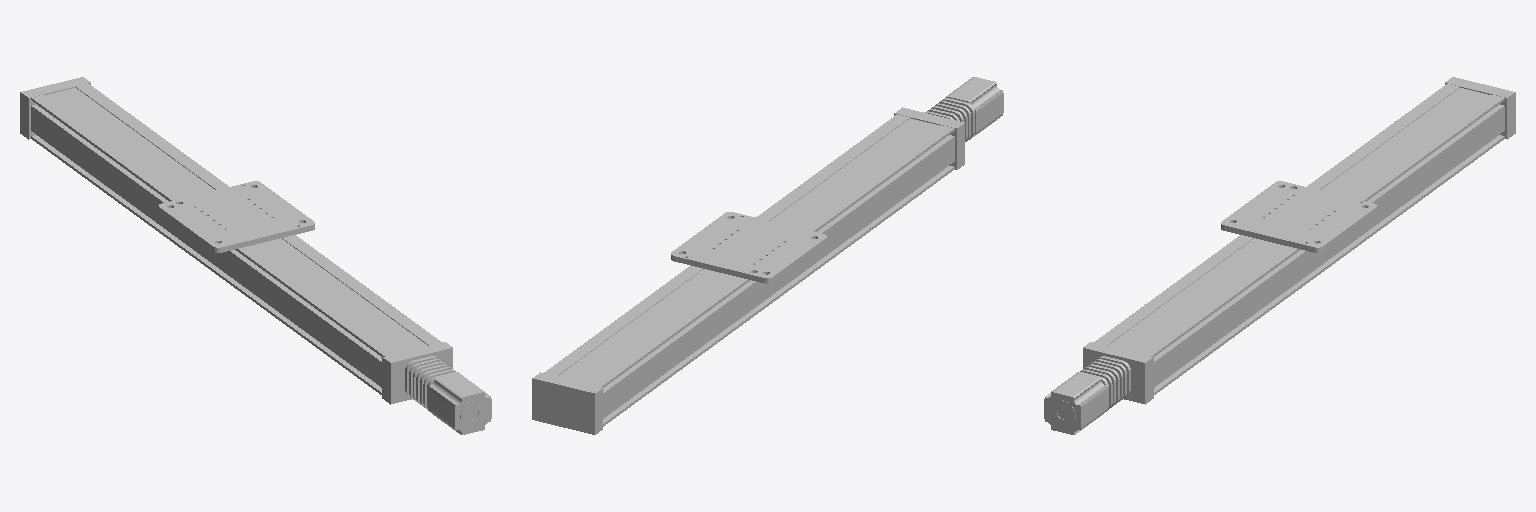
robot.urdf — motoman_gp8:
<?xml version="1.0" ?>
<!-- =================================================================================== -->
<!-- |    This document was autogenerated by xacro from gp8_gazebo.xacro               | -->
<!-- |    EDITING THIS FILE BY HAND IS NOT RECOMMENDED                                 | -->
<!-- =================================================================================== -->
<robot name="motoman_gp8">
  <!-- link list -->
  <link name="base_rail">
    <visual>
      <geometry>
        <mesh filename="package://motoman_gp8_support/meshes/visual/slider_barra v1.stl" scale="0.1 0.1 0.1"/>
      </geometry>
      <origin rpy="0 0 0" xyz="0 0 0"/>
      <material name="">
        <color rgba="0.8 0.8 0.8 1"/>
      </material>
    </visual>
    <collision>
      <geometry>
        <mesh filename="package://motoman_gp8_support/meshes/collision/slider_barra v1.stl" scale="0.1 0.1 0.1"/>
      </geometry>
      <origin rpy="0 0 0" xyz="0 0 0"/>
    </collision>
    <inertial>
      <mass value="81.012"/>
      <inertia ixx="12.087" ixy="0.0" ixz="0.0" iyy="0.11" iyz="0.002" izz="12.125"/>
    </inertial>
  </link>
  <link name="base_plate">
    <visual>
      <geometry>
        <mesh filename="package://motoman_gp8_support/meshes/visual/slider_base v1.stl" scale="0.1 0.1 0.1"/>
      </geometry>
      <origin rpy="0 0 0" xyz="0 0 0"/>
      <material name="">
        <color rgba="0.8 0.8 0.8 1"/>
      </material>
    </visual>
    <collision>
      <geometry>
        <mesh filename="package://motoman_gp8_support/meshes/collision/slider_base v1.stl" scale="0.1 0.1 0.1"/>
      </geometry>
      <origin rpy="0 0 0" xyz="0 0 0"/>
    </collision>
    <inertial>
      <mass value="4.362"/>
      <inertia ixx="0.012" ixy="0.0" ixz="0.0" iyy="0.011" iyz="0.0" izz="0.023"/>
    </inertial>
  </link>
  <link name="base_link">
    <visual>
      <geometry>
        <mesh filename="package://motoman_gp8_support/meshes/visual/gp8_base_link.stl"/>
      </geometry>
      <material name="">
        <color rgba="0.5490196078431373 0.09019607843137255 0.10196078431372549 1.0"/>
      </material>
    </visual>
    <collision>
      <geometry>
        <mesh filename="package://motoman_gp8_support/meshes/collision/gp8_base_link.stl"/>
      </geometry>
    </collision>
    <inertial>
      <mass value="10.871"/>
      <inertia ixx="0.0587" ixy="0.0" ixz="0.0" iyy="0.0587" iyz="0.0" izz="0.0587"/>
    </inertial>
  </link>
  <link name="link_1_s">
    <visual>
      <geometry>
        <mesh filename="package://motoman_gp8_support/meshes/visual/gp8_link_1_s.stl"/>
      </geometry>
      <material name="">
        <color rgba="0.8 0.8 0.8 1"/>
      </material>
    </visual>
    <collision>
      <geometry>
        <mesh filename="package://motoman_gp8_support/meshes/collision/gp8_link_1_s.stl"/>
      </geometry>
    </collision>
    <inertial>
      <mass value="4.594"/>
      <inertia ixx="0.016" ixy="0.0" ixz="0.003" iyy="0.02" iyz="0.0" izz="0.02"/>
    </inertial>
  </link>
  <link name="link_2_l">
    <visual>
      <geometry>
        <mesh filename="package://motoman_gp8_support/meshes/visual/gp8_link_2_l.stl"/>
      </geometry>
      <material name="">
        <color rgba="0.5490196078431373 0.09019607843137255 0.10196078431372549 1.0"/>
      </material>
    </visual>
    <collision>
      <geometry>
        <mesh filename="package://motoman_gp8_support/meshes/collision/gp8_link_2_l.stl"/>
      </geometry>
    </collision>
    <inertial>
      <mass value="9.979"/>
      <inertia ixx="0.168" ixy="0.001" ixz="0.002" iyy="0.117" iyz="0.002" izz="0.117"/>
    </inertial>
  </link>
  <link name="link_3_u">
    <visual>
      <geometry>
        <mesh filename="package://motoman_gp8_support/meshes/visual/gp8_link_3_u.stl"/>
      </geometry>
      <material name="">
        <color rgba="0.8 0.8 0.8 1"/>
      </material>
    </visual>
    <collision>
      <geometry>
        <mesh filename="package://motoman_gp8_support/meshes/collision/gp8_link_3_u.stl"/>
      </geometry>
    </collision>
    <inertial>
      <mass value="4.862"/>
      <inertia ixx="0.014" ixy="0.0" ixz="0.001" iyy="0.017" iyz="0.0" izz="0.015"/>
    </inertial>
  </link>
  <link name="link_4_r">
    <visual>
      <geometry>
        <mesh filename="package://motoman_gp8_support/meshes/visual/gp8_link_4_r.stl"/>
      </geometry>
      <material name="">
        <color rgba="0.5490196078431373 0.09019607843137255 0.10196078431372549 1.0"/>
      </material>
    </visual>
    <collision>
      <geometry>
        <mesh filename="package://motoman_gp8_support/meshes/collision/gp8_link_4_r.stl"/>
      </geometry>
    </collision>
    <inertial>
      <mass value="3.891"/>
      <inertia ixx="0.006" ixy="0.0" ixz="0.0" iyy="0.023" iyz="0.0" izz="0.024"/>
    </inertial>
  </link>
  <link name="link_5_b">
    <visual>
      <geometry>
        <mesh filename="package://motoman_gp8_support/meshes/visual/gp8_link_5_b.stl"/>
      </geometry>
      <material name="">
        <color rgba="0.8 0.8 0.8 1"/>
      </material>
    </visual>
    <collision>
      <geometry>
        <mesh filename="package://motoman_gp8_support/meshes/collision/gp8_link_5_b.stl"/>
      </geometry>
    </collision>
    <inertial>
      <mass value="0.747"/>
      <inertia ixx="0.0000001" ixy="0.0" ixz="0.0" iyy="0.001" iyz="0.0" izz="0.001"/>
    </inertial>
  </link>
  <link name="link_6_t">
    <visual>
      <geometry>
        <mesh filename="package://motoman_gp8_support/meshes/visual/gp8_link_6_t.stl"/>
      </geometry>
      <material name="">
        <color rgba="0.5490196078431373 0.09019607843137255 0.10196078431372549 1.0"/>
      </material>
    </visual>
    <collision>
      <geometry>
        <mesh filename="package://motoman_gp8_support/meshes/collision/gp8_link_6_t.stl"/>
      </geometry>
    </collision>
    <inertial>
      <mass value="0.03"/>
      <inertia ixx="0.0001" ixy="0.0" ixz="0.0" iyy="0.0000066" iyz="0.0" izz="0.0000065"/>
    </inertial>
  </link>
  <!-- Used for fixing robot to Gazebo 'base_rail' -->
  <!-- <link name="world"/> -->
  <link name="world">
    <inertial>
      <mass value="0.0000001"/>
      <origin rpy="0 0 0" xyz="0.0 0.0 0.0"/>
      <inertia ixx="0.0000001" ixy="0.0" ixz="0.0" iyy="0.0000001" iyz="0.0" izz="0.0000001"/>
    </inertial>
  </link>
  <joint name="fixed" type="fixed">
    <parent link="world"/>
    <child link="base_rail"/>
  </joint>
  <!-- end of link list -->
  <!-- joint list -->
  <joint name="joint_0_s" type="prismatic">
    <parent link="base_rail"/>
    <child link="base_plate"/>
    <origin rpy="0 0 0" xyz="0 0 0.086"/>
    <axis xyz="0 1 0"/>
    <limit effort="150.92" lower="-0.5" upper="0.5" velocity="0.01"/>
    <dynamics damping="50" friction="1"/>
  </joint>
  <joint name="joint_01_s" type="fixed">
    <parent link="base_plate"/>
    <child link="base_link"/>
    <origin rpy="0 0 0" xyz="0 0 0"/>
  </joint>
  <joint name="joint_1_s" type="revolute">
    <parent link="base_link"/>
    <child link="link_1_s"/>
    <origin rpy="0 0 0" xyz="0 0 0.330"/>
    <axis xyz="0 0 1"/>
    <limit effort="150.92" lower="-2.9670" upper="2.9670" velocity="7.9412"/>
    <dynamics damping="50" friction="1"/>
  </joint>
  <joint name="joint_2_l" type="revolute">
    <parent link="link_1_s"/>
    <child link="link_2_l"/>
    <origin rpy="0 0 0" xyz="0.040 0 0"/>
    <axis xyz="0 1 0"/>
    <limit effort="176.4" lower="-1.1344" upper="2.5307" velocity="6.7495"/>
    <dynamics damping="50" friction="1"/>
  </joint>
  <joint name="joint_3_u" type="revolute">
    <parent link="link_2_l"/>
    <child link="link_3_u"/>
    <origin rpy="0 0 0" xyz="0 0 0.345"/>
    <axis xyz="0 -1 0"/>
    <limit effort="107.56" lower="-1.2217" upper="3.3161" velocity="9.0757"/>
    <dynamics damping="50" friction="1"/>
  </joint>
  <joint name="joint_4_r" type="revolute">
    <parent link="link_3_u"/>
    <child link="link_4_r"/>
    <origin rpy="0 0 0" xyz="0.340 0 0.040"/>
    <axis xyz="-1 0 0"/>
    <limit effort="55.86" lower="-3.3161" upper="3.3161" velocity="9.5993"/>
    <dynamics damping="50" friction="1"/>
  </joint>
  <joint name="joint_5_b" type="revolute">
    <parent link="link_4_r"/>
    <child link="link_5_b"/>
    <origin rpy="0 0 0" xyz="0 0 0"/>
    <axis xyz="0 -1 0"/>
    <limit effort="32.68" lower="-2.3561" upper="2.3561" velocity="9.5993"/>
    <dynamics damping="50" friction="1"/>
  </joint>
  <joint name="joint_6_t" type="revolute">
    <parent link="link_5_b"/>
    <child link="link_6_t"/>
    <origin rpy="0 0 0" xyz="0 0 0"/>
    <axis xyz="-1 0 0"/>
    <limit effort="22.54" lower="-6.2944" upper="6.2944" velocity="17.4845"/>
    <dynamics damping="50" friction="1"/>
  </joint>
  <!-- end of joint list -->
  
  <transmission name="transmission_h">
    <type>transmission_interface/SimpleTransmission</type>
    <joint name="joint_0_s">
      <hardwareInterface>hardware_interface/EffortJointInterface</hardwareInterface>
    </joint>
    <actuator name="motor_h">
      <hardwareInterface>hardware_interface/EffortJointInterface</hardwareInterface>
      <mechanicalReduction>100</mechanicalReduction>
    </actuator>
  </transmission>
  <transmission name="transmission_s">
    <type>transmission_interface/SimpleTransmission</type>
    <joint name="joint_1_s">
      <hardwareInterface>hardware_interface/EffortJointInterface</hardwareInterface>
    </joint>
    <actuator name="motor_s">
      <hardwareInterface>hardware_interface/EffortJointInterface</hardwareInterface>
      <mechanicalReduction>300</mechanicalReduction>
    </actuator>
  </transmission>
  <transmission name="transmission_l">
    <type>transmission_interface/SimpleTransmission</type>
    <joint name="joint_2_l">
      <hardwareInterface>hardware_interface/EffortJointInterface</hardwareInterface>
    </joint>
    <actuator name="motor_l">
      <hardwareInterface>hardware_interface/EffortJointInterface</hardwareInterface>
      <mechanicalReduction>300</mechanicalReduction>
    </actuator>
  </transmission>
  <transmission name="transmission_u">
    <type>transmission_interface/SimpleTransmission</type>
    <joint name="joint_3_u">
      <hardwareInterface>hardware_interface/EffortJointInterface</hardwareInterface>
    </joint>
    <actuator name="motor_u">
      <hardwareInterface>hardware_interface/EffortJointInterface</hardwareInterface>
      <mechanicalReduction>50</mechanicalReduction>
    </actuator>
  </transmission>
  <transmission name="transmission_r">
    <type>transmission_interface/SimpleTransmission</type>
    <joint name="joint_4_r">
      <hardwareInterface>hardware_interface/EffortJointInterface</hardwareInterface>
    </joint>
    <actuator name="motor_r">
      <hardwareInterface>hardware_interface/EffortJointInterface</hardwareInterface>
      <mechanicalReduction>30</mechanicalReduction>
    </actuator>
  </transmission>
  <transmission name="transmission_b">
    <type>transmission_interface/SimpleTransmission</type>
    <joint name="joint_5_b">
      <hardwareInterface>hardware_interface/EffortJointInterface</hardwareInterface>
    </joint>
    <actuator name="motor_b">
      <hardwareInterface>hardware_interface/EffortJointInterface</hardwareInterface>
      <mechanicalReduction>30</mechanicalReduction>
    </actuator>
  </transmission>
  <transmission name="transmission_t">
    <type>transmission_interface/SimpleTransmission</type>
    <joint name="joint_6_t">
      <hardwareInterface>hardware_interface/EffortJointInterface</hardwareInterface>
    </joint>
    <actuator name="motor_t">
      <hardwareInterface>hardware_interface/EffortJointInterface</hardwareInterface>
      <mechanicalReduction>10</mechanicalReduction>
    </actuator>
  </transmission>
  <gazebo reference="base_rail">
    <selfCollide>true</selfCollide>
    <material>Gazebo/Grey</material>
  </gazebo>
  <gazebo reference="base_plate">
    <selfCollide>true</selfCollide>
    <material>Gazebo/Grey</material>
  </gazebo>
  <gazebo reference="base_link">
    <selfCollide>true</selfCollide>
    <material>Gazebo/Red</material>
  </gazebo>
  <gazebo reference="link_1_s">
    <selfCollide>true</selfCollide>
    <material>Gazebo/Gray</material>
  </gazebo>
  <gazebo reference="link_2_l">
    <selfCollide>true</selfCollide>
    <material>Gazebo/Red</material>
  </gazebo>
  <gazebo reference="link_3_u">
    <selfCollide>true</selfCollide>
    <material>Gazebo/Gray</material>
  </gazebo>
  <gazebo reference="link_4_r">
    <selfCollide>true</selfCollide>
    <material>Gazebo/Red</material>
  </gazebo>
  <gazebo reference="link_5_b">
    <selfCollide>true</selfCollide>
    <material>Gazebo/Gray</material>
  </gazebo>
  <gazebo reference="link_6_t">
    <selfCollide>true</selfCollide>
    <material>Gazebo/Red</material>
  </gazebo>
  <!-- Plugin: ros_control -->
  <gazebo>
    <plugin filename="libgazebo_ros_control.so" name="gazebo_ros_control">
      <robotNamespace>/robot</robotNamespace>
      <legacyModeNS>true</legacyModeNS>
    </plugin>
  </gazebo>
</robot>

--- What the picture shows (computed from the rendered views, not written in the file) ---
3 views of the same robot in one strip: view 1: azimuth 30°, elevation 25°; view 2: azimuth 150°, elevation 25°; view 3: azimuth 330°, elevation 25° (orthographic).
Robot: motoman_gp8 — 10 links, 9 joints (6 revolute, 1 prismatic, 2 fixed); root link world; default pose: all joints at 0.
Links seen in each view (by area): view 1: base_rail, base_plate; view 2: base_rail, base_plate; view 3: base_rail, base_plate.
Link boxes in pixels (<box>): base_rail: <box>20,77,491,434</box>; base_plate: <box>159,181,314,252</box>; base_rail: <box>532,77,1003,434</box>; base_plate: <box>671,212,826,283</box>; base_rail: <box>1044,77,1515,434</box>; base_plate: <box>1221,181,1376,252</box>.
Bounding box of the posed robot: 0.194 × 1.4 × 0.086 m (x, y, z).
Meshes: 9 distinct files referenced, 2 mesh visuals loaded (2 binary STL); not drawn: 7 (reference not matched to a file when rendering).